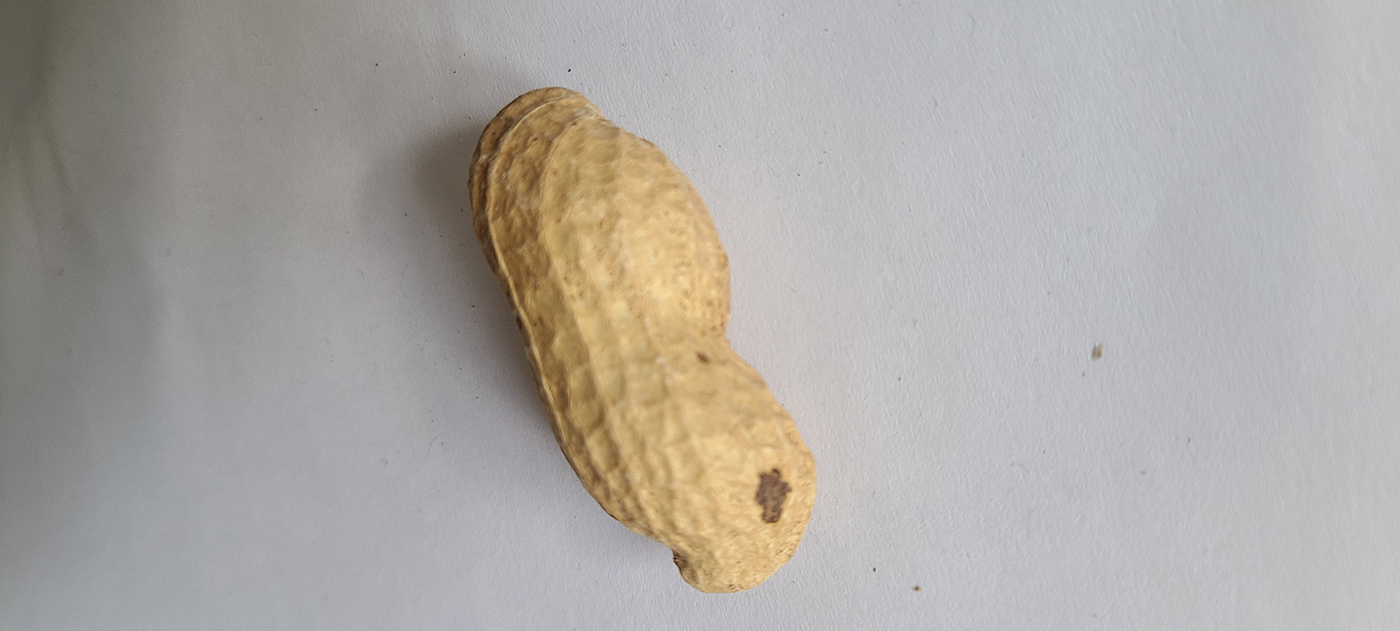h: (464, 81, 819, 596)
